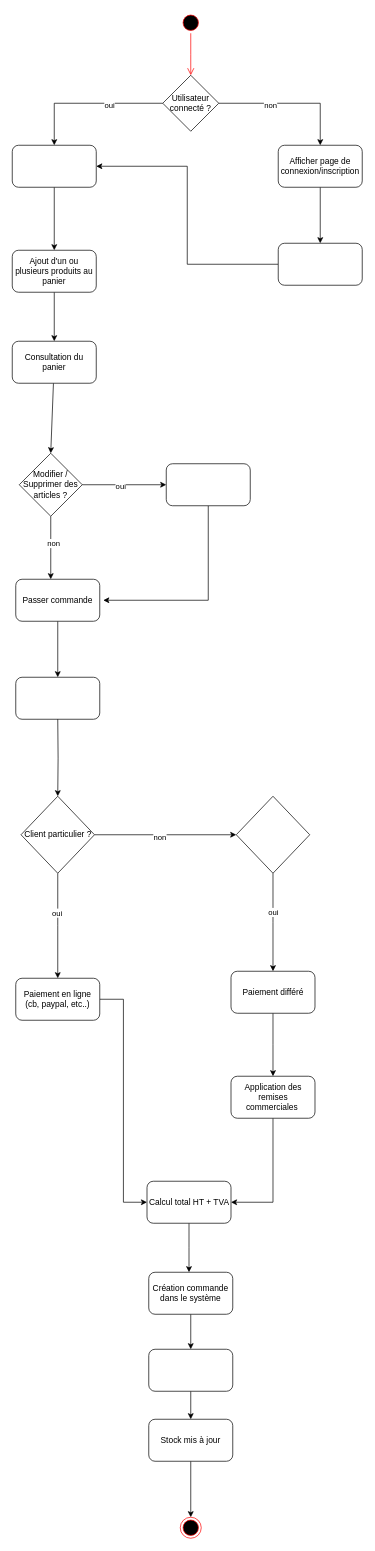
Image size: 375x1551. Some labels were removed from this diagram. Here are the shapes that lost their labels. From the top down, the centre of each, then its label:
the point at 54,166: Accès au catalogue
the point at 320,264: Identification de l'utilisateur
the point at 208,484: Mise à jour du panier
the point at 57,698: Choix des adresses de livraison / facturation
the point at 273,834: Client professionnel ?
the point at 190,1370: Génération de bon de commande + bon de livraison + facture
